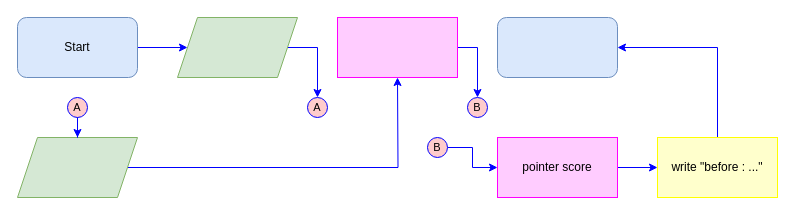
This 795x215 diagram has some shape labels left out. The shapes that lost their labels are listed below. From the top down, each one's centre as x and y in pixels, then its label:
(237,47): score = 10
(397,47): function()
(557,47): End
(77,167): cost
